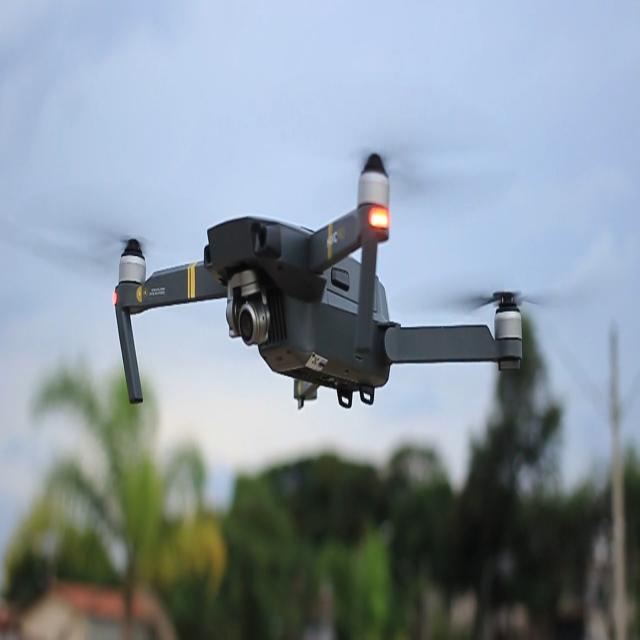Drone: (114, 154, 523, 412)
